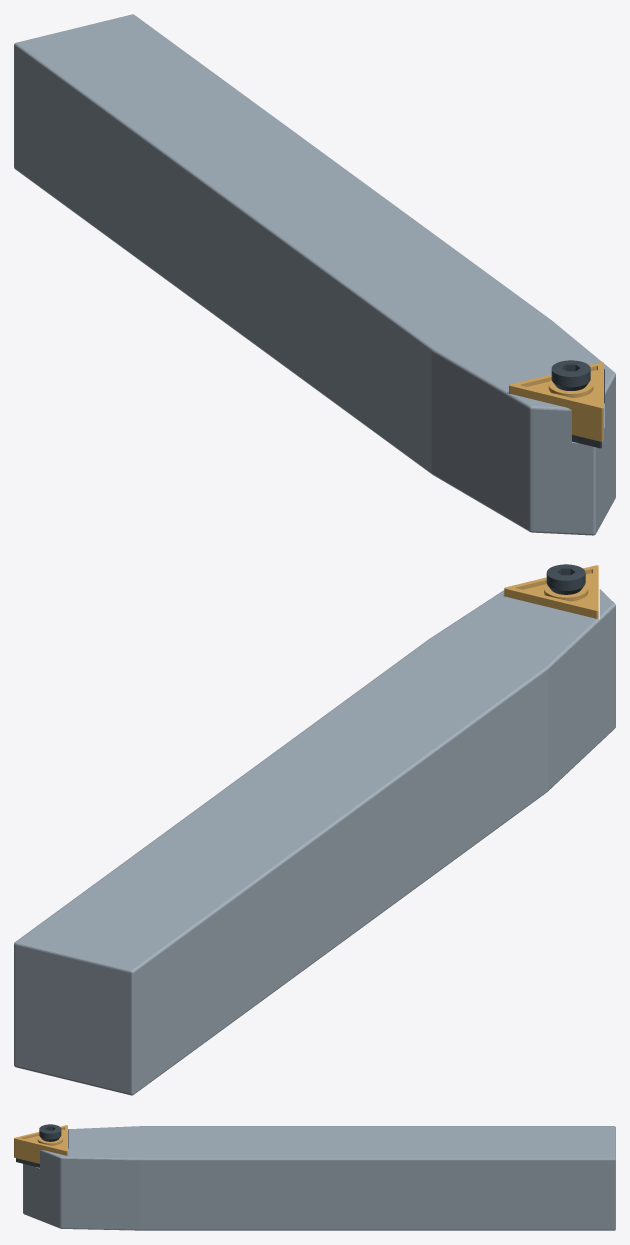
File: external-threading.glb
3 renders of one model, top to bottom at view 1: azimuth 30°, elevation 25°; view 2: azimuth 150°, elevation 25°; view 3: azimuth 270°, elevation 25°, orthographic. The views are drawn at different scales.
Visible parts, largest first — view 1: Thread_Holder, Thread_60deg_Insert, Thread_Insert_Screw_Head; view 2: Thread_Holder, Thread_60deg_Insert, Thread_Insert_Screw_Head; view 3: Thread_Holder, Thread_60deg_Insert, Thread_Insert_Screw_Head.
Part boxes in pixels (<box>): Thread_Holder: <box>14,14,615,535</box>; Thread_60deg_Insert: <box>509,362,603,441</box>; Thread_Insert_Screw_Head: <box>551,360,590,390</box>; Thread_Holder: <box>14,589,615,1095</box>; Thread_60deg_Insert: <box>504,565,598,619</box>; Thread_Insert_Screw_Head: <box>546,564,585,594</box>; Thread_Holder: <box>23,1126,615,1230</box>; Thread_60deg_Insert: <box>14,1125,67,1163</box>; Thread_Insert_Screw_Head: <box>39,1124,61,1141</box>.
Size of the model in its own units: 0.01 by 0.0119 by 0.0759.
